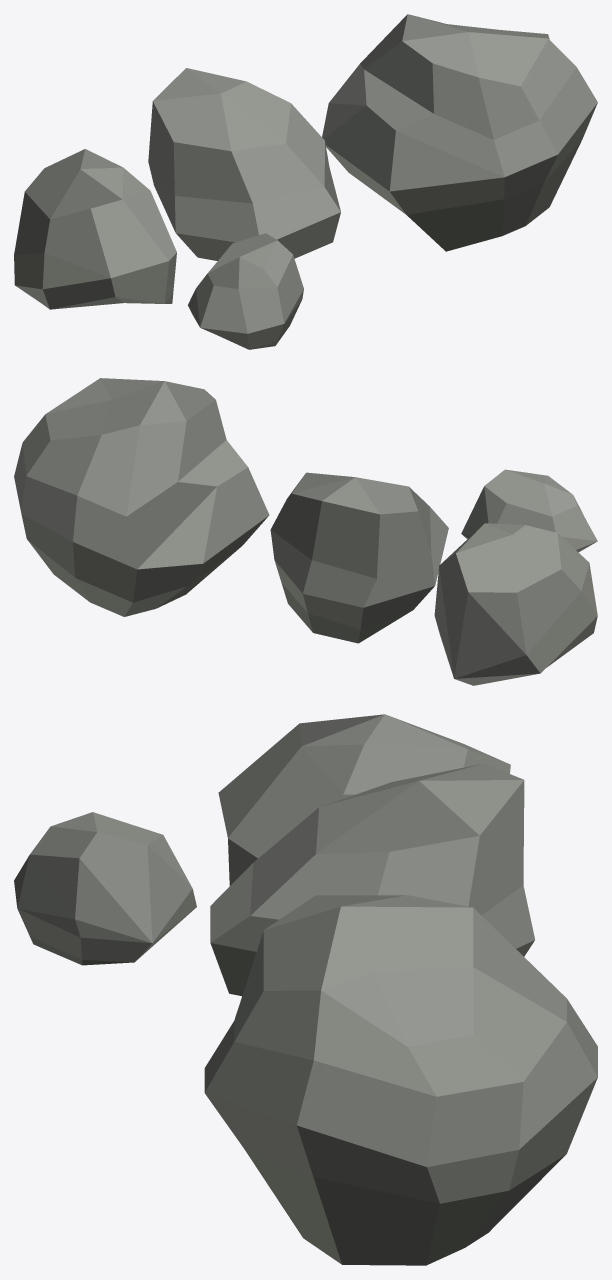
The model's file is W.Rocks_model.gltf.
3 renders of one model, top to bottom at view 1: azimuth 30°, elevation 25°; view 2: azimuth 150°, elevation 25°; view 3: azimuth 270°, elevation 25°, orthographic. The views are drawn at different scales.
Visible parts, largest first — view 1: R4, R3, R2, R1; view 2: R4, R3, R2, R1; view 3: R4, R3, R1, R2.
Boxes of the visible parts, x1,y1,x2,y2 form: R4: [322, 14, 597, 251]; R3: [148, 68, 340, 260]; R2: [14, 149, 176, 309]; R1: [188, 233, 303, 349]; R4: [14, 378, 269, 616]; R3: [270, 472, 448, 643]; R2: [434, 523, 597, 685]; R1: [461, 469, 597, 552]; R4: [204, 895, 597, 1265]; R3: [210, 763, 534, 995]; R1: [14, 812, 196, 965]; R2: [218, 714, 510, 885].
Bounding box in the file's own units: 8.28 × 3.01 × 4.87.
Materials: 1 (1 with a texture image).
